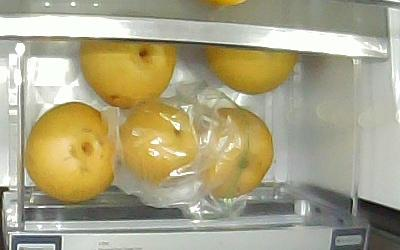pear: (26, 102, 118, 202), (80, 38, 179, 109), (203, 43, 300, 95)
pear_vinyl: (192, 107, 275, 199), (119, 102, 196, 184)
